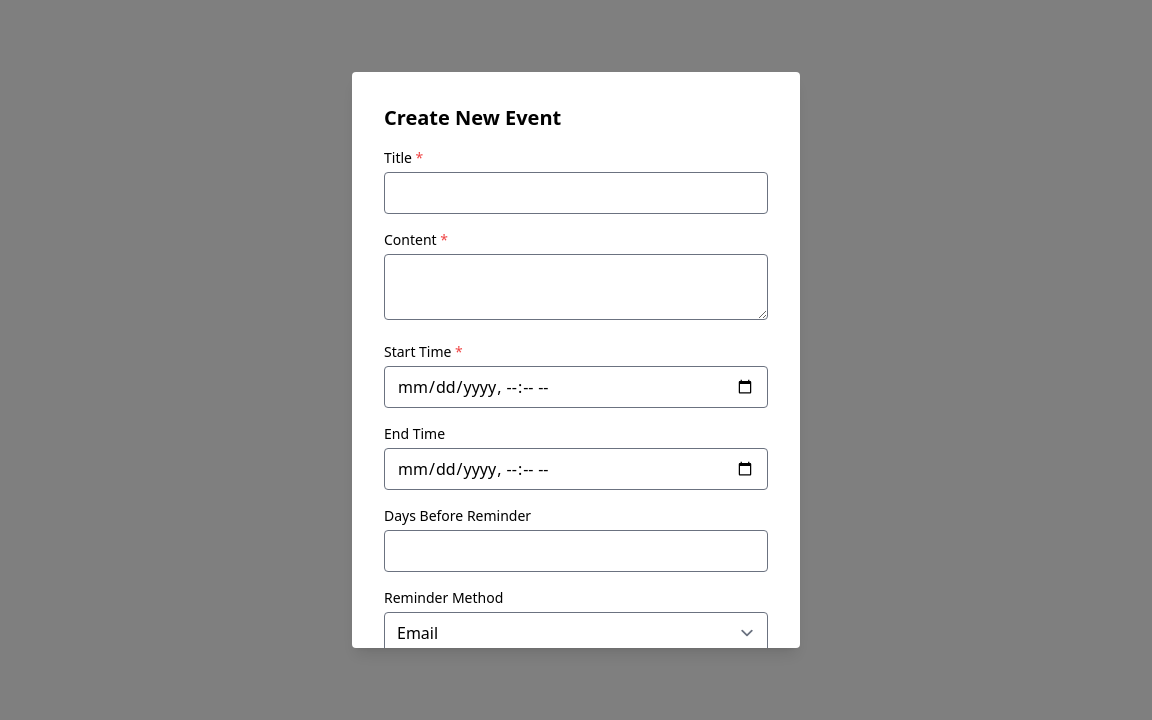
Test: NewEventDialog › sends correct data on successful submission
# Fill out the form
Type "My New Event" into the field with test id "title-input" at (576, 193), box x1=384 y1=172 x2=768 y2=214
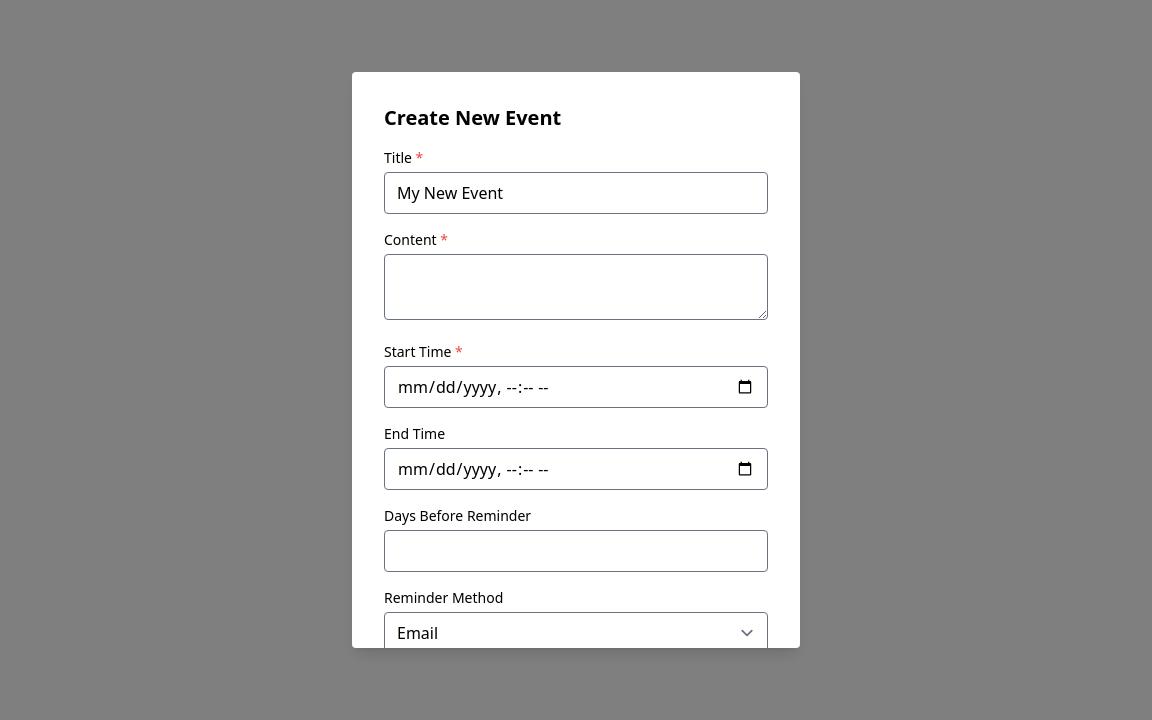
Type "An amazing event" into the text box with test id "content-input" at (576, 287), box x1=384 y1=254 x2=768 y2=320
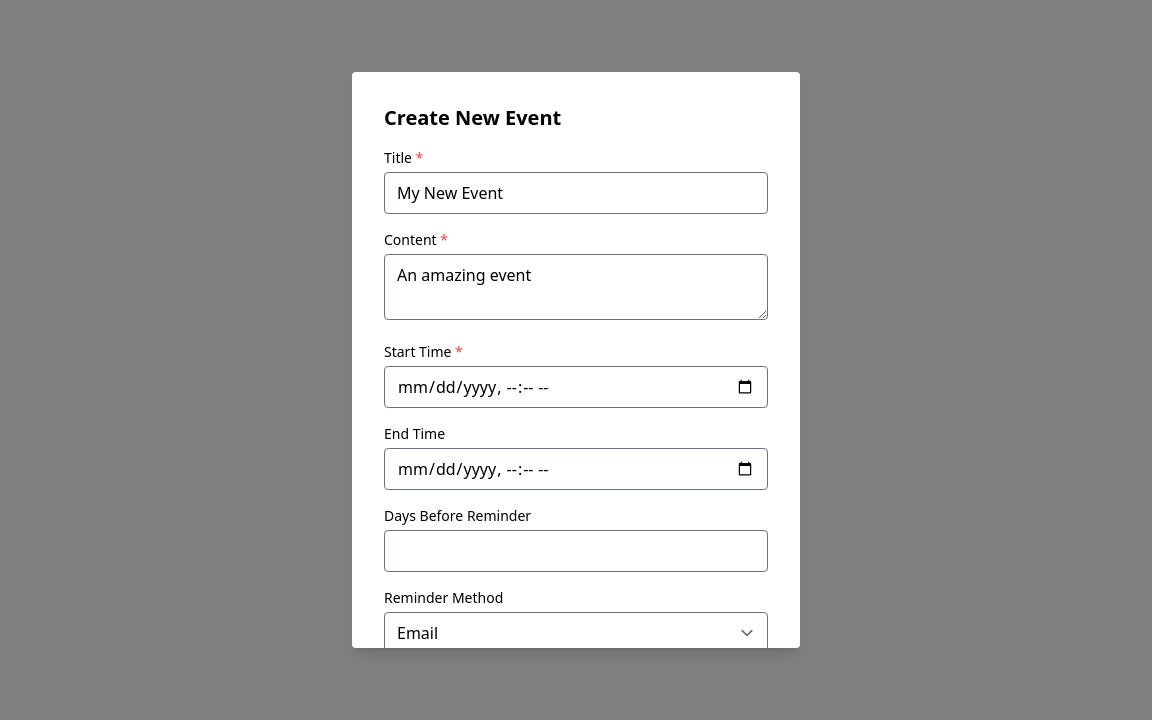
Type "2024-06-01T09:00" into the field with test id "startTime-input" at (576, 387), box x1=384 y1=366 x2=768 y2=408
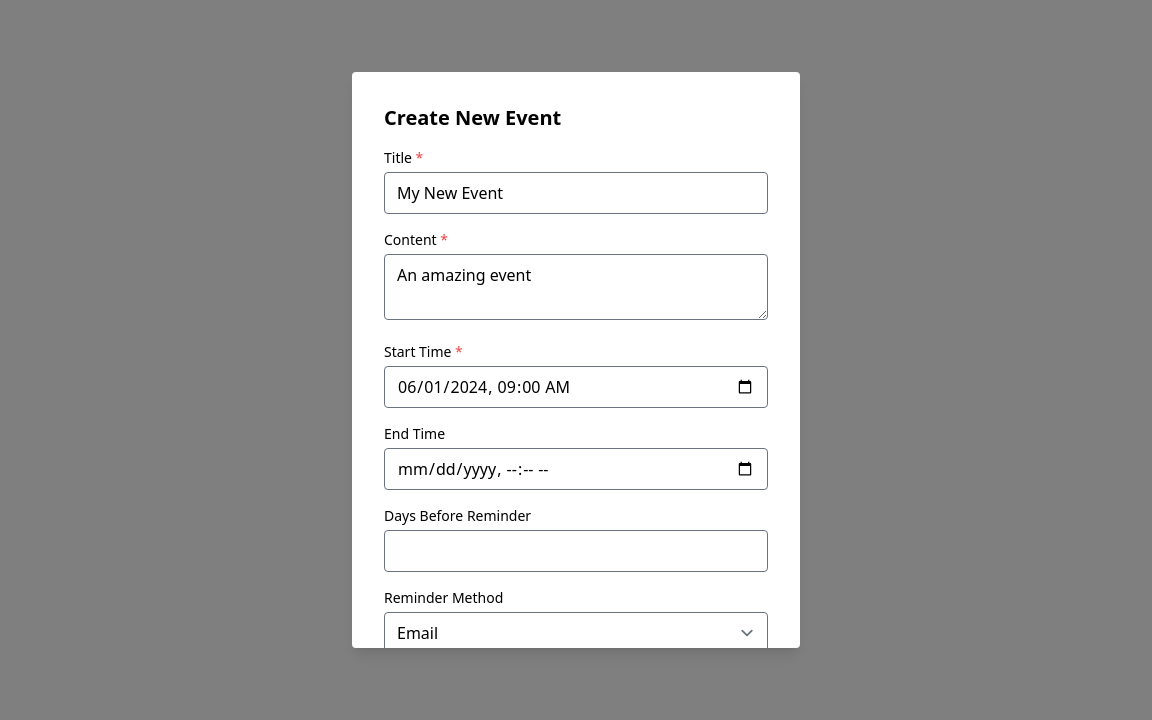
Type "2" into the number field with test id "daysBefore-input" at (576, 551), box x1=384 y1=530 x2=768 y2=572
(page scrolled)
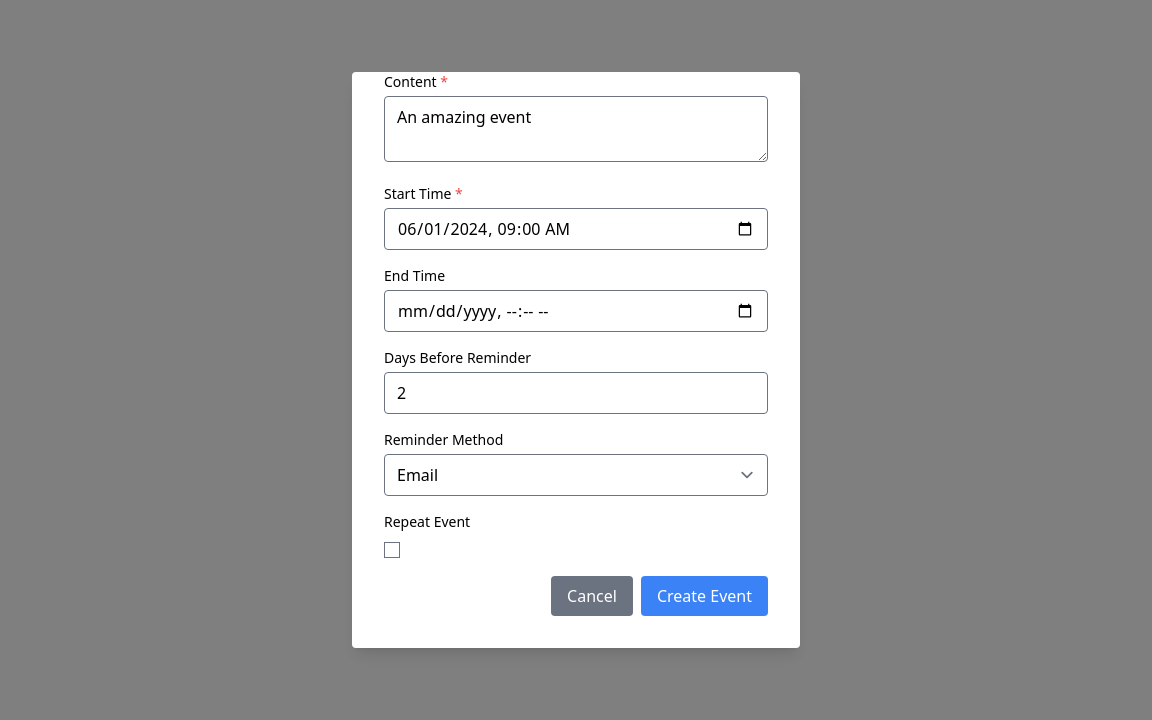
# Submit form
Submit the form from the button with test id "submit-button", box x1=641 y1=576 x2=768 y2=616
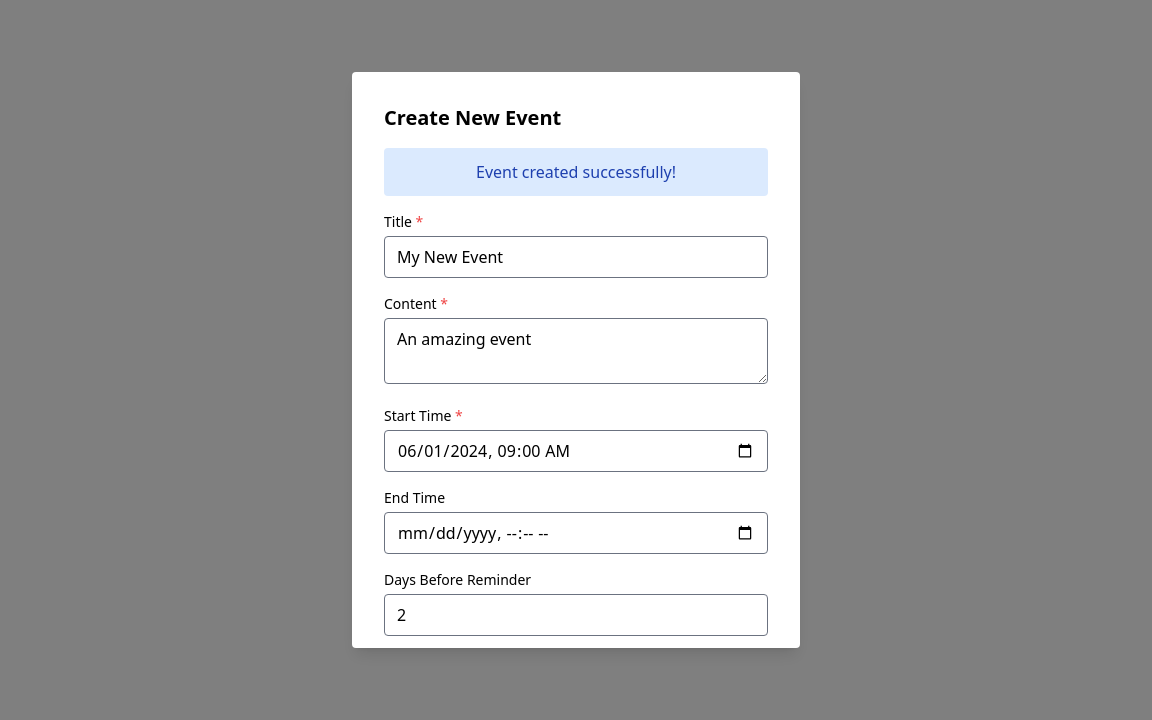
Check: the text "Event created successfully!" is shown, box x1=384 y1=148 x2=768 y2=196
